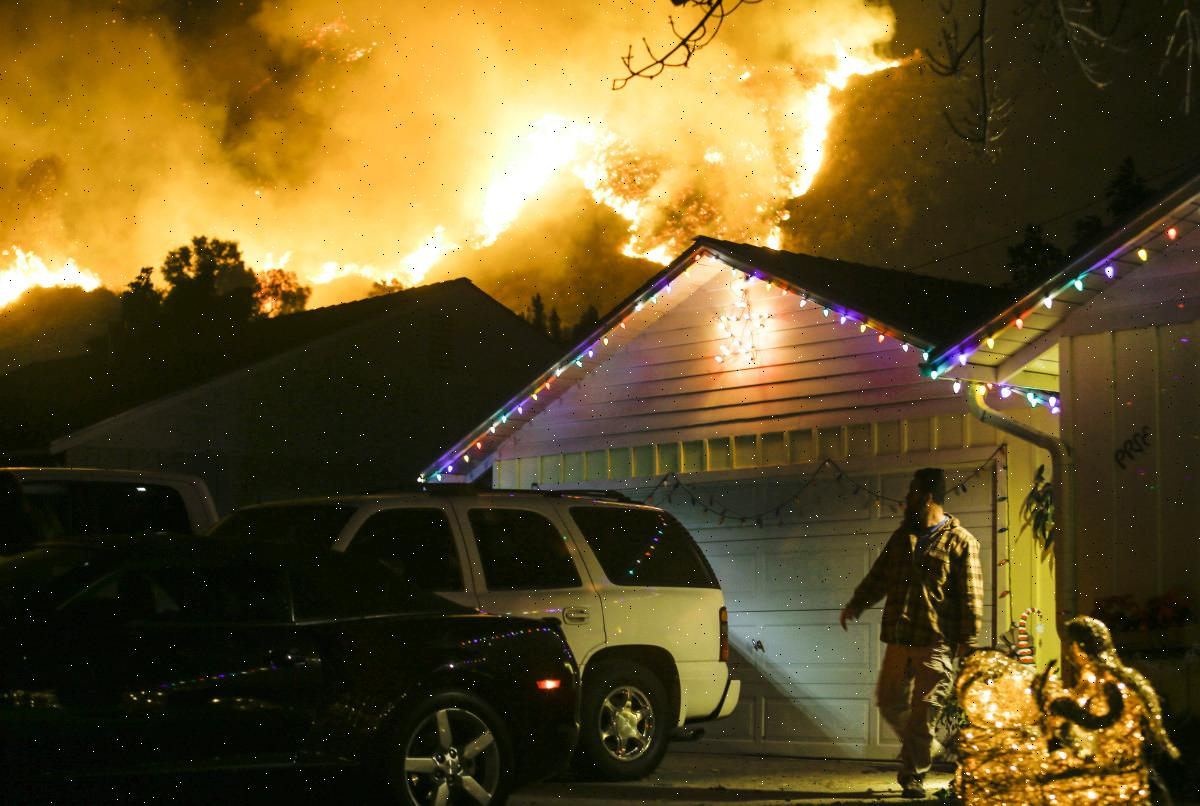fire: (524, 0, 915, 262), (0, 178, 470, 366)
